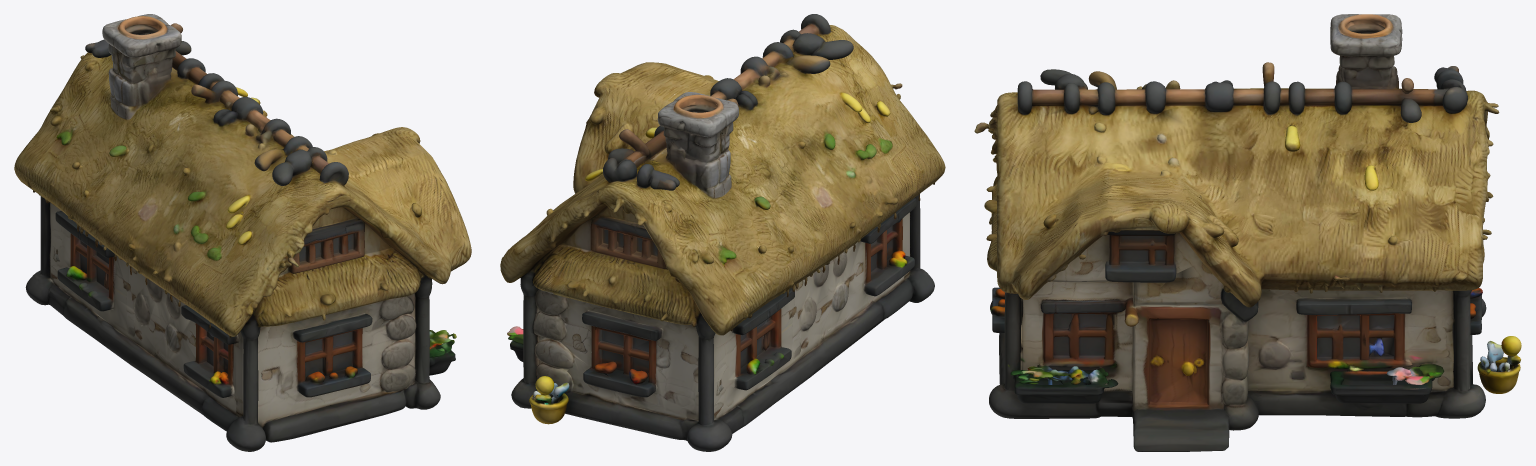
The model's file is building-house-cottage.glb.
The picture shows the model from 3 angles, left to right: view 1: azimuth 30°, elevation 25°; view 2: azimuth 150°, elevation 25°; view 3: azimuth 270°, elevation 25°; orthographic projection. The views are drawn at different scales.
Visible parts, largest first — view 1: tripo_node_3029a575-ae6f-4501-8495-612b20da87c3; view 2: tripo_node_3029a575-ae6f-4501-8495-612b20da87c3; view 3: tripo_node_3029a575-ae6f-4501-8495-612b20da87c3.
Boxes of the visible parts, <box> form: tripo_node_3029a575-ae6f-4501-8495-612b20da87c3: <box>14,14,471,451</box>; tripo_node_3029a575-ae6f-4501-8495-612b20da87c3: <box>500,14,945,451</box>; tripo_node_3029a575-ae6f-4501-8495-612b20da87c3: <box>974,14,1521,451</box>.
Size of the model in its own units: 4.83 by 5 by 7.56.
Materials: 1 (1 with a texture image).
